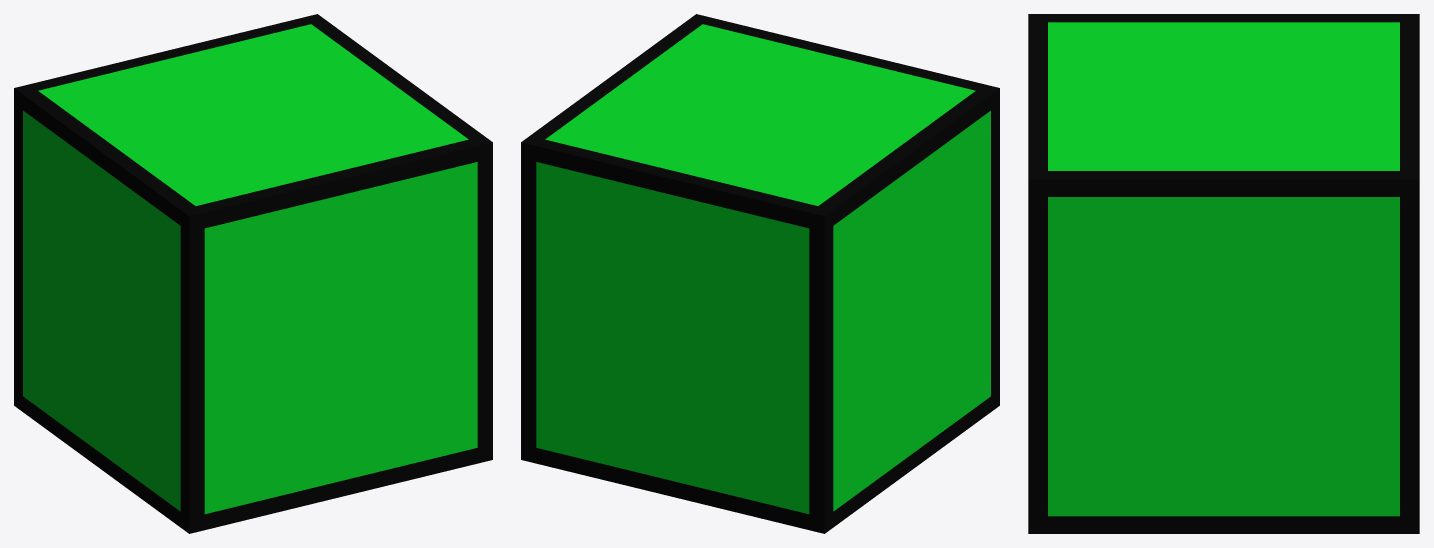
The model's file is Green.fbx.
The picture shows the model from 3 angles, left to right: view 1: azimuth 30°, elevation 25°; view 2: azimuth 150°, elevation 25°; view 3: azimuth 270°, elevation 25°; orthographic projection. The views are drawn at different scales.
Visible parts, largest first — view 1: Cube; view 2: Cube; view 3: Cube.
Part boxes in pixels (<box>): Cube: <box>14,14,492,533</box>; Cube: <box>521,14,999,533</box>; Cube: <box>1028,14,1419,533</box>.
Size of the model in its own units: 200 by 200 by 200.
